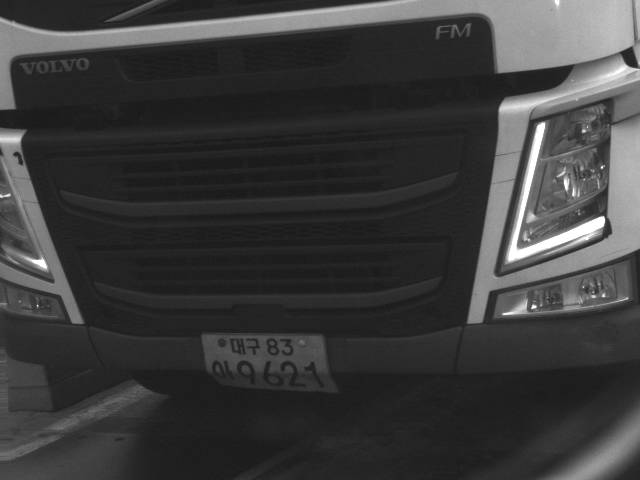car: (1, 1, 639, 397)
plate: (200, 332, 341, 395)
